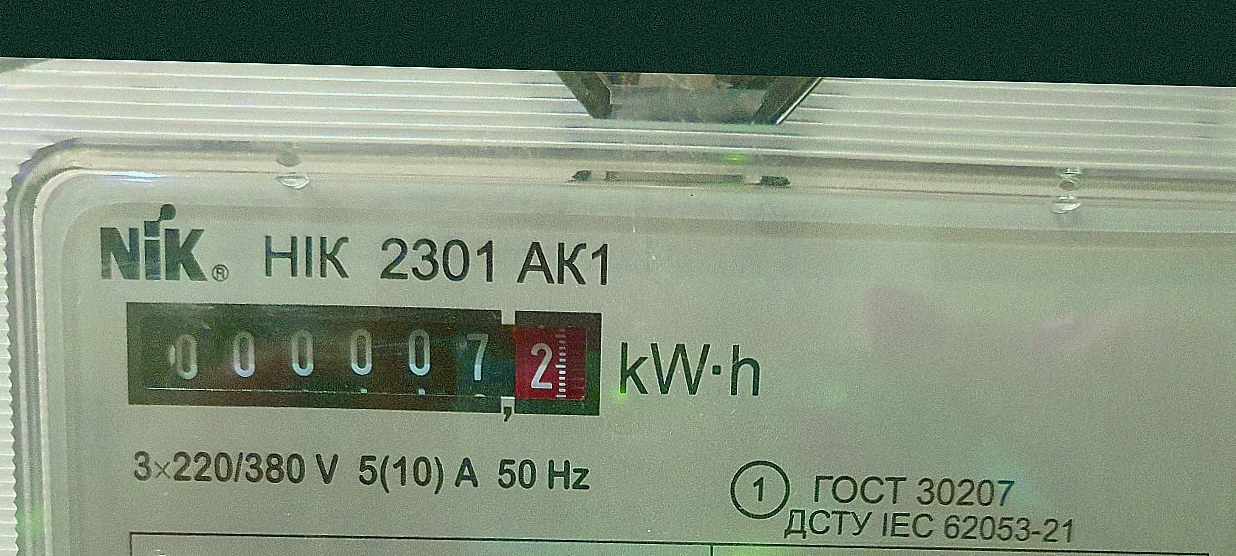0: (225, 326, 261, 378), (401, 325, 435, 378), (286, 324, 318, 378), (344, 323, 376, 377), (169, 329, 202, 380)
2: (525, 339, 556, 391)
7: (460, 328, 491, 383)
screen: (105, 281, 622, 435)
